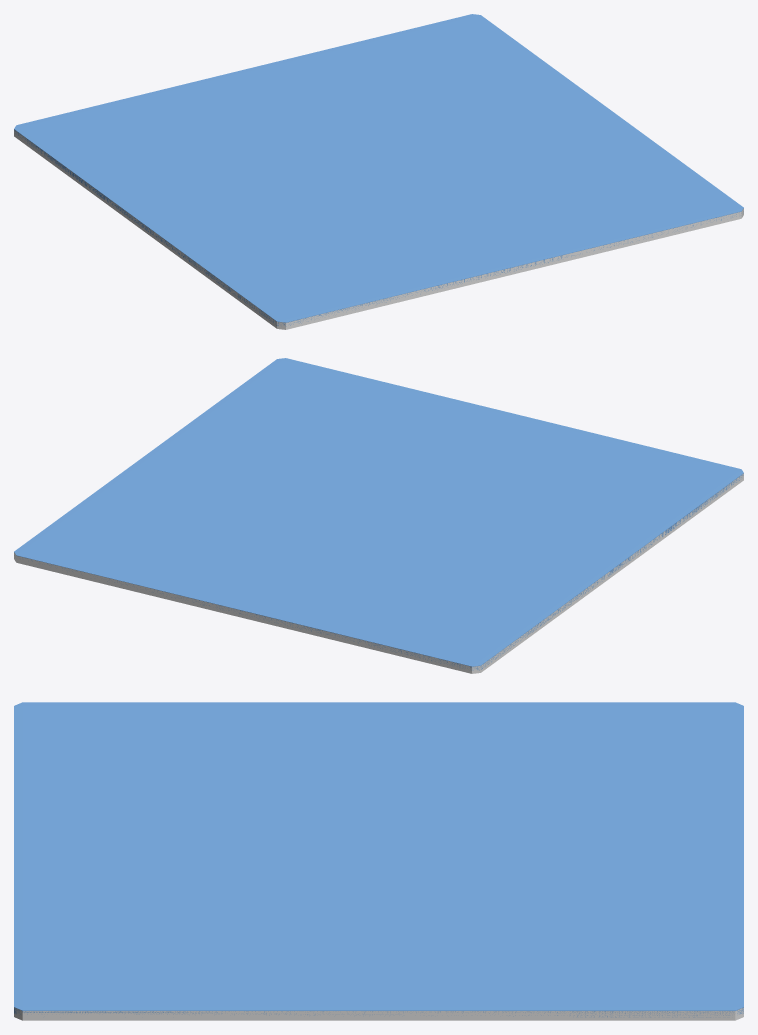
The model's file is ReceivingZoneMarker.glb.
3 views of the same model, one above another, from view 1: azimuth 30°, elevation 25°; view 2: azimuth 150°, elevation 25°; view 3: azimuth 270°, elevation 25° (orthographic). The views are drawn at different scales.
Parts seen in each view (by area): view 1: Pad, Border; view 2: Pad, Border; view 3: Pad, Border.
Boxes of the visible parts, x1,y1,x2,y2 form: Pad: (14,14,743,326); Border: (14,130,743,329); Pad: (14,358,743,670); Border: (14,473,743,673); Pad: (14,702,743,1017); Border: (14,1007,743,1020).
Size of the model in its own units: 2 by 0.031 by 2.
